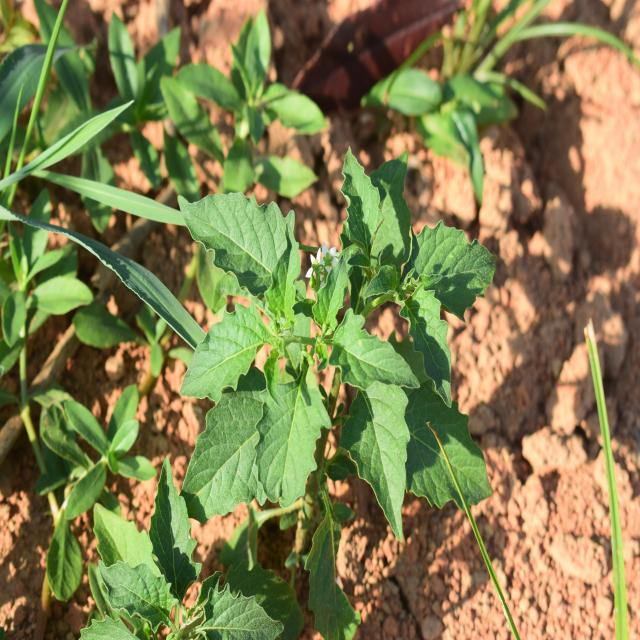Black_nightshade: (179, 169, 483, 540)
